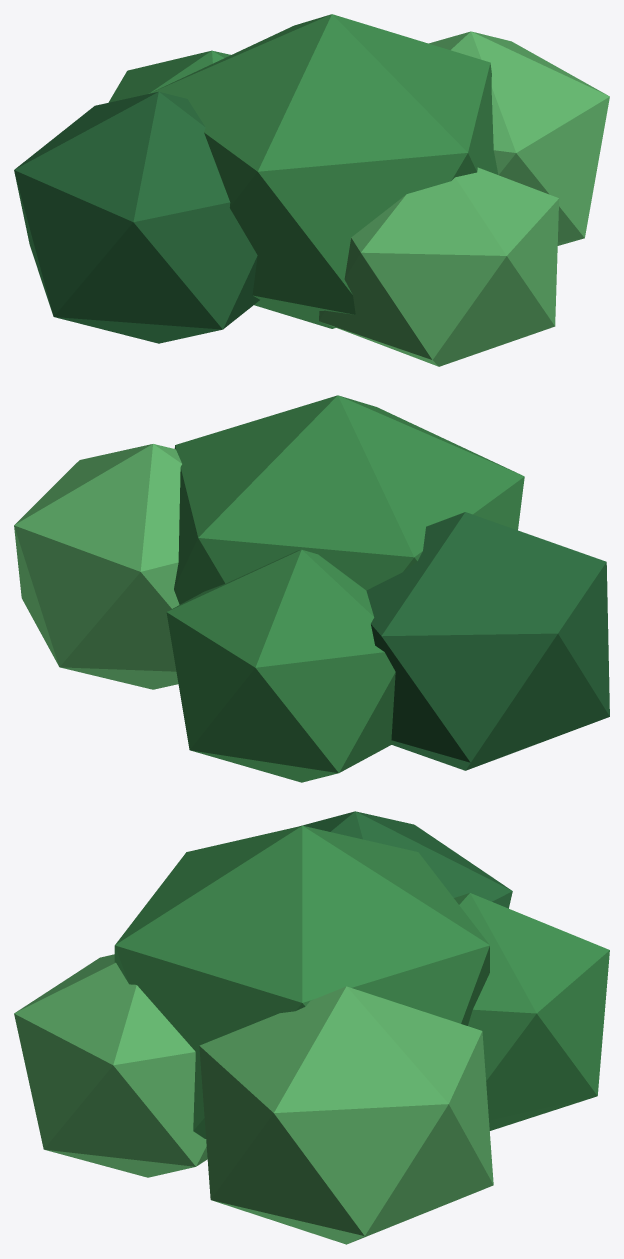
Rendered from bush.glb.
3 renders of one model, top to bottom at view 1: azimuth 30°, elevation 25°; view 2: azimuth 150°, elevation 25°; view 3: azimuth 270°, elevation 25°, orthographic. The views are drawn at different scales.
Parts seen in each view (by area): view 1: bush; view 2: bush; view 3: bush.
Boxes of the visible parts, bbox=[...] form: bush: bbox=[14, 14, 609, 366]; bush: bbox=[14, 395, 609, 782]; bush: bbox=[14, 811, 609, 1244].
Bounding box in the file's own units: 1.55 × 0.85 × 1.35.
